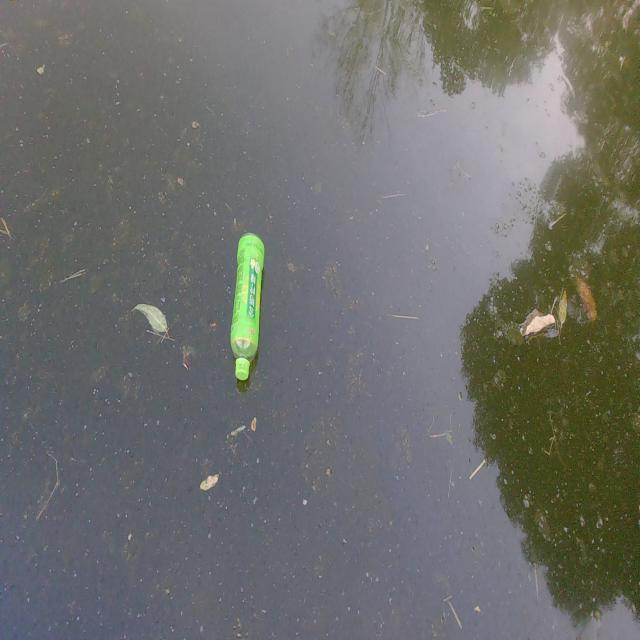Bottle: (225, 229, 267, 386)
